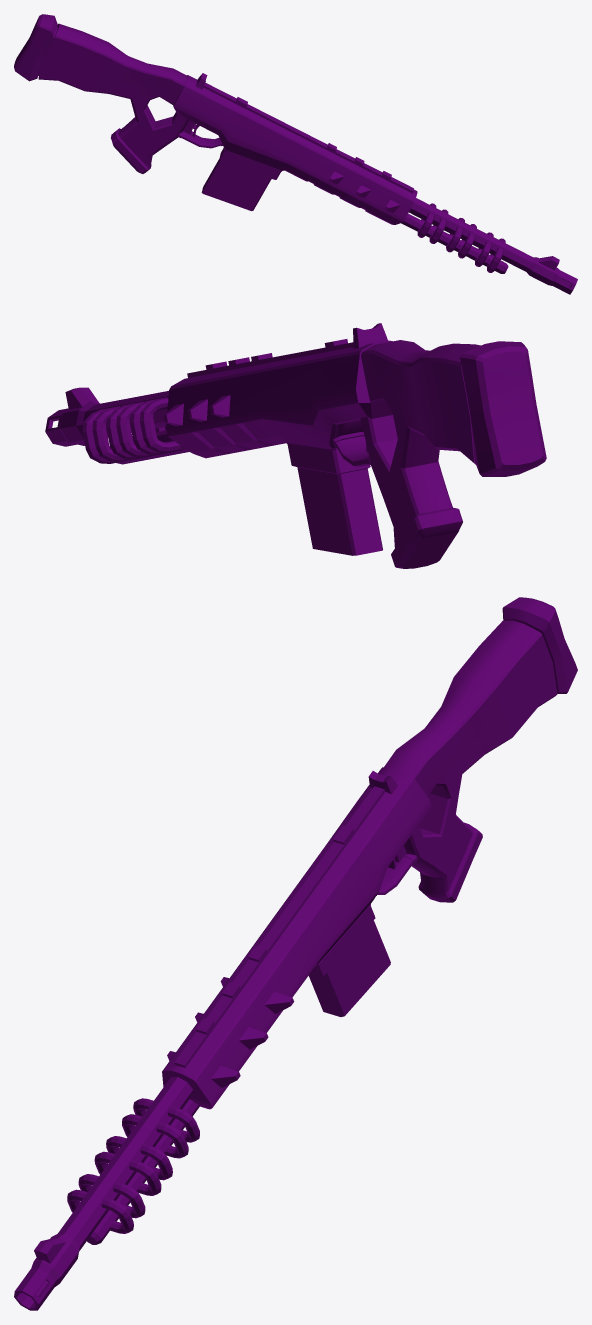
Rendered from Ranged-gun-single-mat-V2.fbx.
3 views of the same model, one above another, from view 1: azimuth 30°, elevation 25°; view 2: azimuth 150°, elevation 25°; view 3: azimuth 270°, elevation 25° (orthographic). The views are drawn at different scales.
Visible parts, largest first — view 1: Enemy_Rifle1_Rifle_Body1; view 2: Enemy_Rifle1_Rifle_Body1; view 3: Enemy_Rifle1_Rifle_Body1.
Boxes of the visible parts, box(x1,y1,x2,y2) form: Enemy_Rifle1_Rifle_Body1: box(14, 14, 577, 294); Enemy_Rifle1_Rifle_Body1: box(45, 323, 546, 568); Enemy_Rifle1_Rifle_Body1: box(14, 597, 577, 1310).
Bounding box in the file's own units: 3.33 × 1.99 × 2.46.
